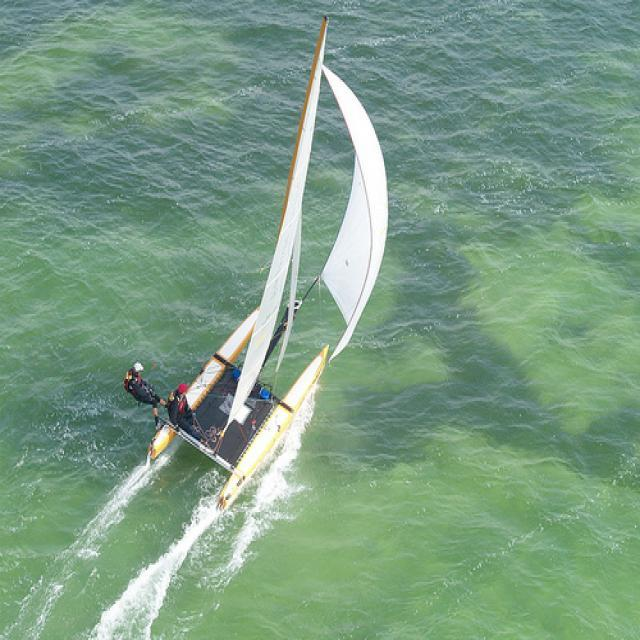Ship: (116, 23, 390, 506)
